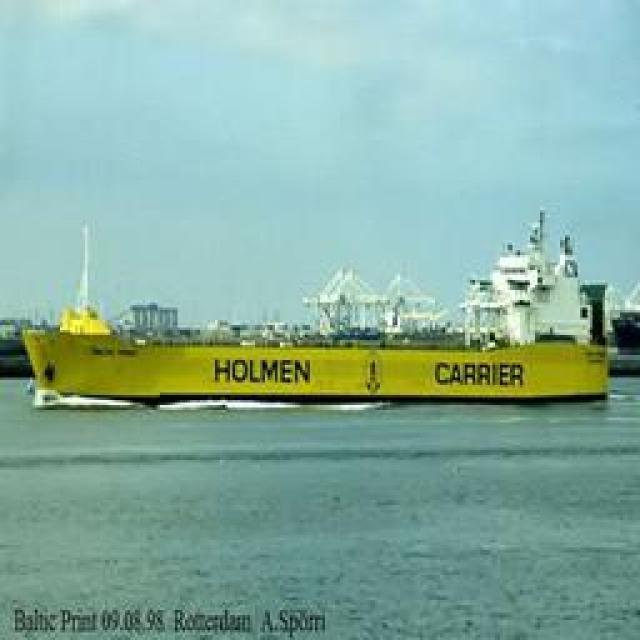CIV_Ship: (31, 208, 619, 412)
